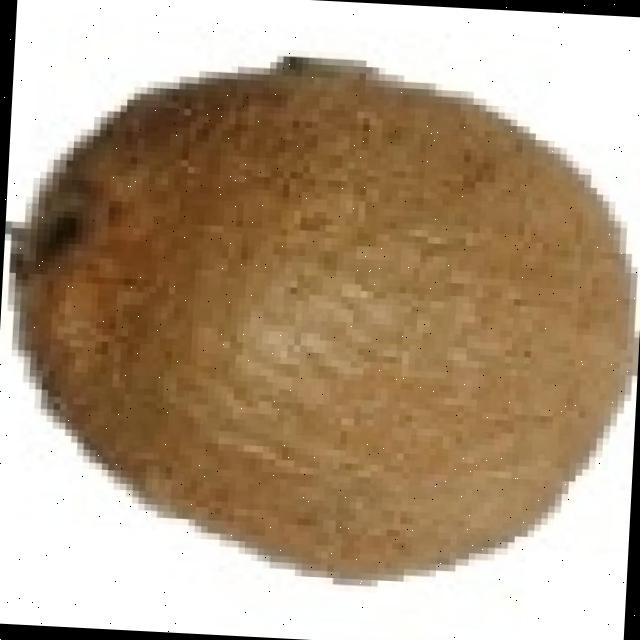kiwi: (27, 75, 636, 591)
